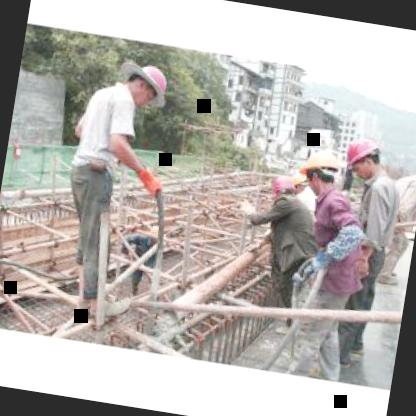helmet: (119, 58, 172, 112), (338, 131, 386, 184), (294, 146, 344, 194), (265, 171, 295, 204), (410, 155, 416, 184)
